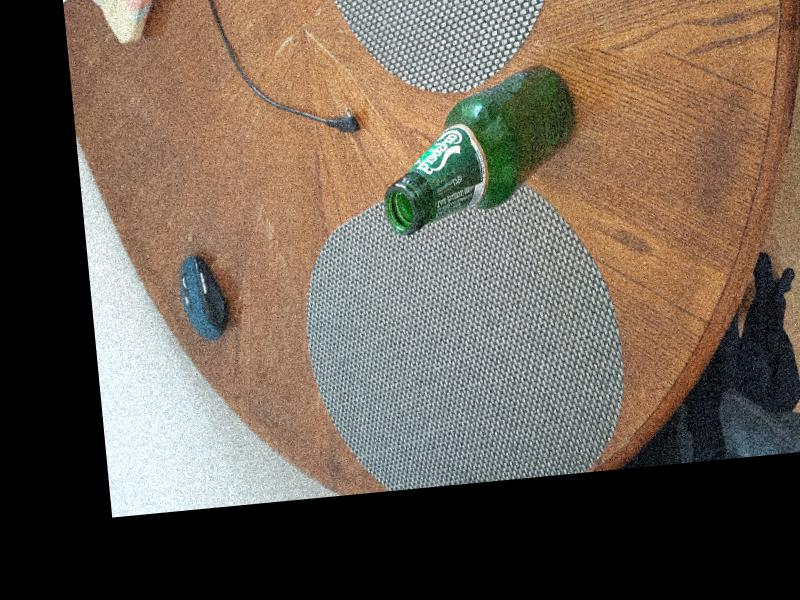Beer: (372, 54, 588, 238)
